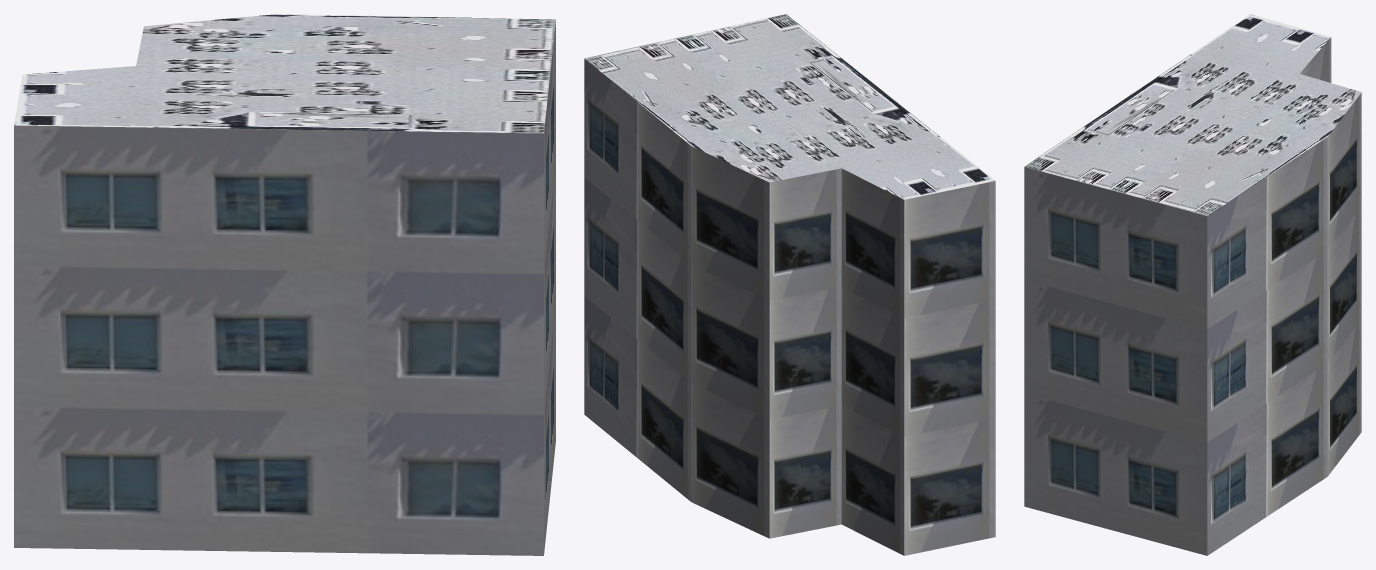
The model's file is ResTex__91.fbx.
3 renders of one model, left to right at view 1: azimuth 30°, elevation 25°; view 2: azimuth 150°, elevation 25°; view 3: azimuth 270°, elevation 25°, orthographic. The views are drawn at different scales.
Visible parts, largest first — view 1: CityEngineMaterial_10_m, CityEngineMaterial_4_m; view 2: CityEngineMaterial_10_m, CityEngineMaterial_4_m; view 3: CityEngineMaterial_10_m, CityEngineMaterial_4_m.
Part boxes in pixels (<box>): CityEngineMaterial_10_m: <box>14,20,555,555</box>; CityEngineMaterial_4_m: <box>14,14,555,133</box>; CityEngineMaterial_10_m: <box>584,59,995,555</box>; CityEngineMaterial_4_m: <box>584,14,995,199</box>; CityEngineMaterial_10_m: <box>1024,37,1361,555</box>; CityEngineMaterial_4_m: <box>1024,14,1361,215</box>.
Bounding box in the file's own units: 11.48 × 9 × 8.1.
2 materials, 2 textured.
